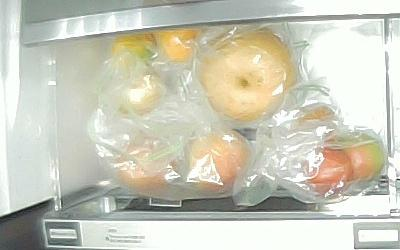peach_vinyl: (187, 129, 252, 195), (113, 130, 175, 192)
pear_vinyl: (198, 30, 295, 121)
tangerine_vinyl: (117, 71, 162, 116), (107, 31, 156, 71), (155, 29, 201, 63)
tomato_vinyl: (337, 130, 384, 183), (304, 146, 352, 196)
